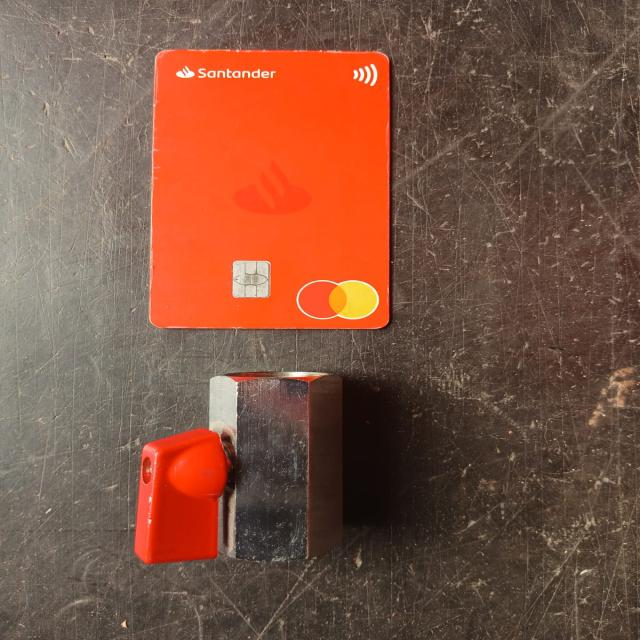cartao: (152, 48, 390, 330)
rosca_interna: (134, 370, 344, 562)
